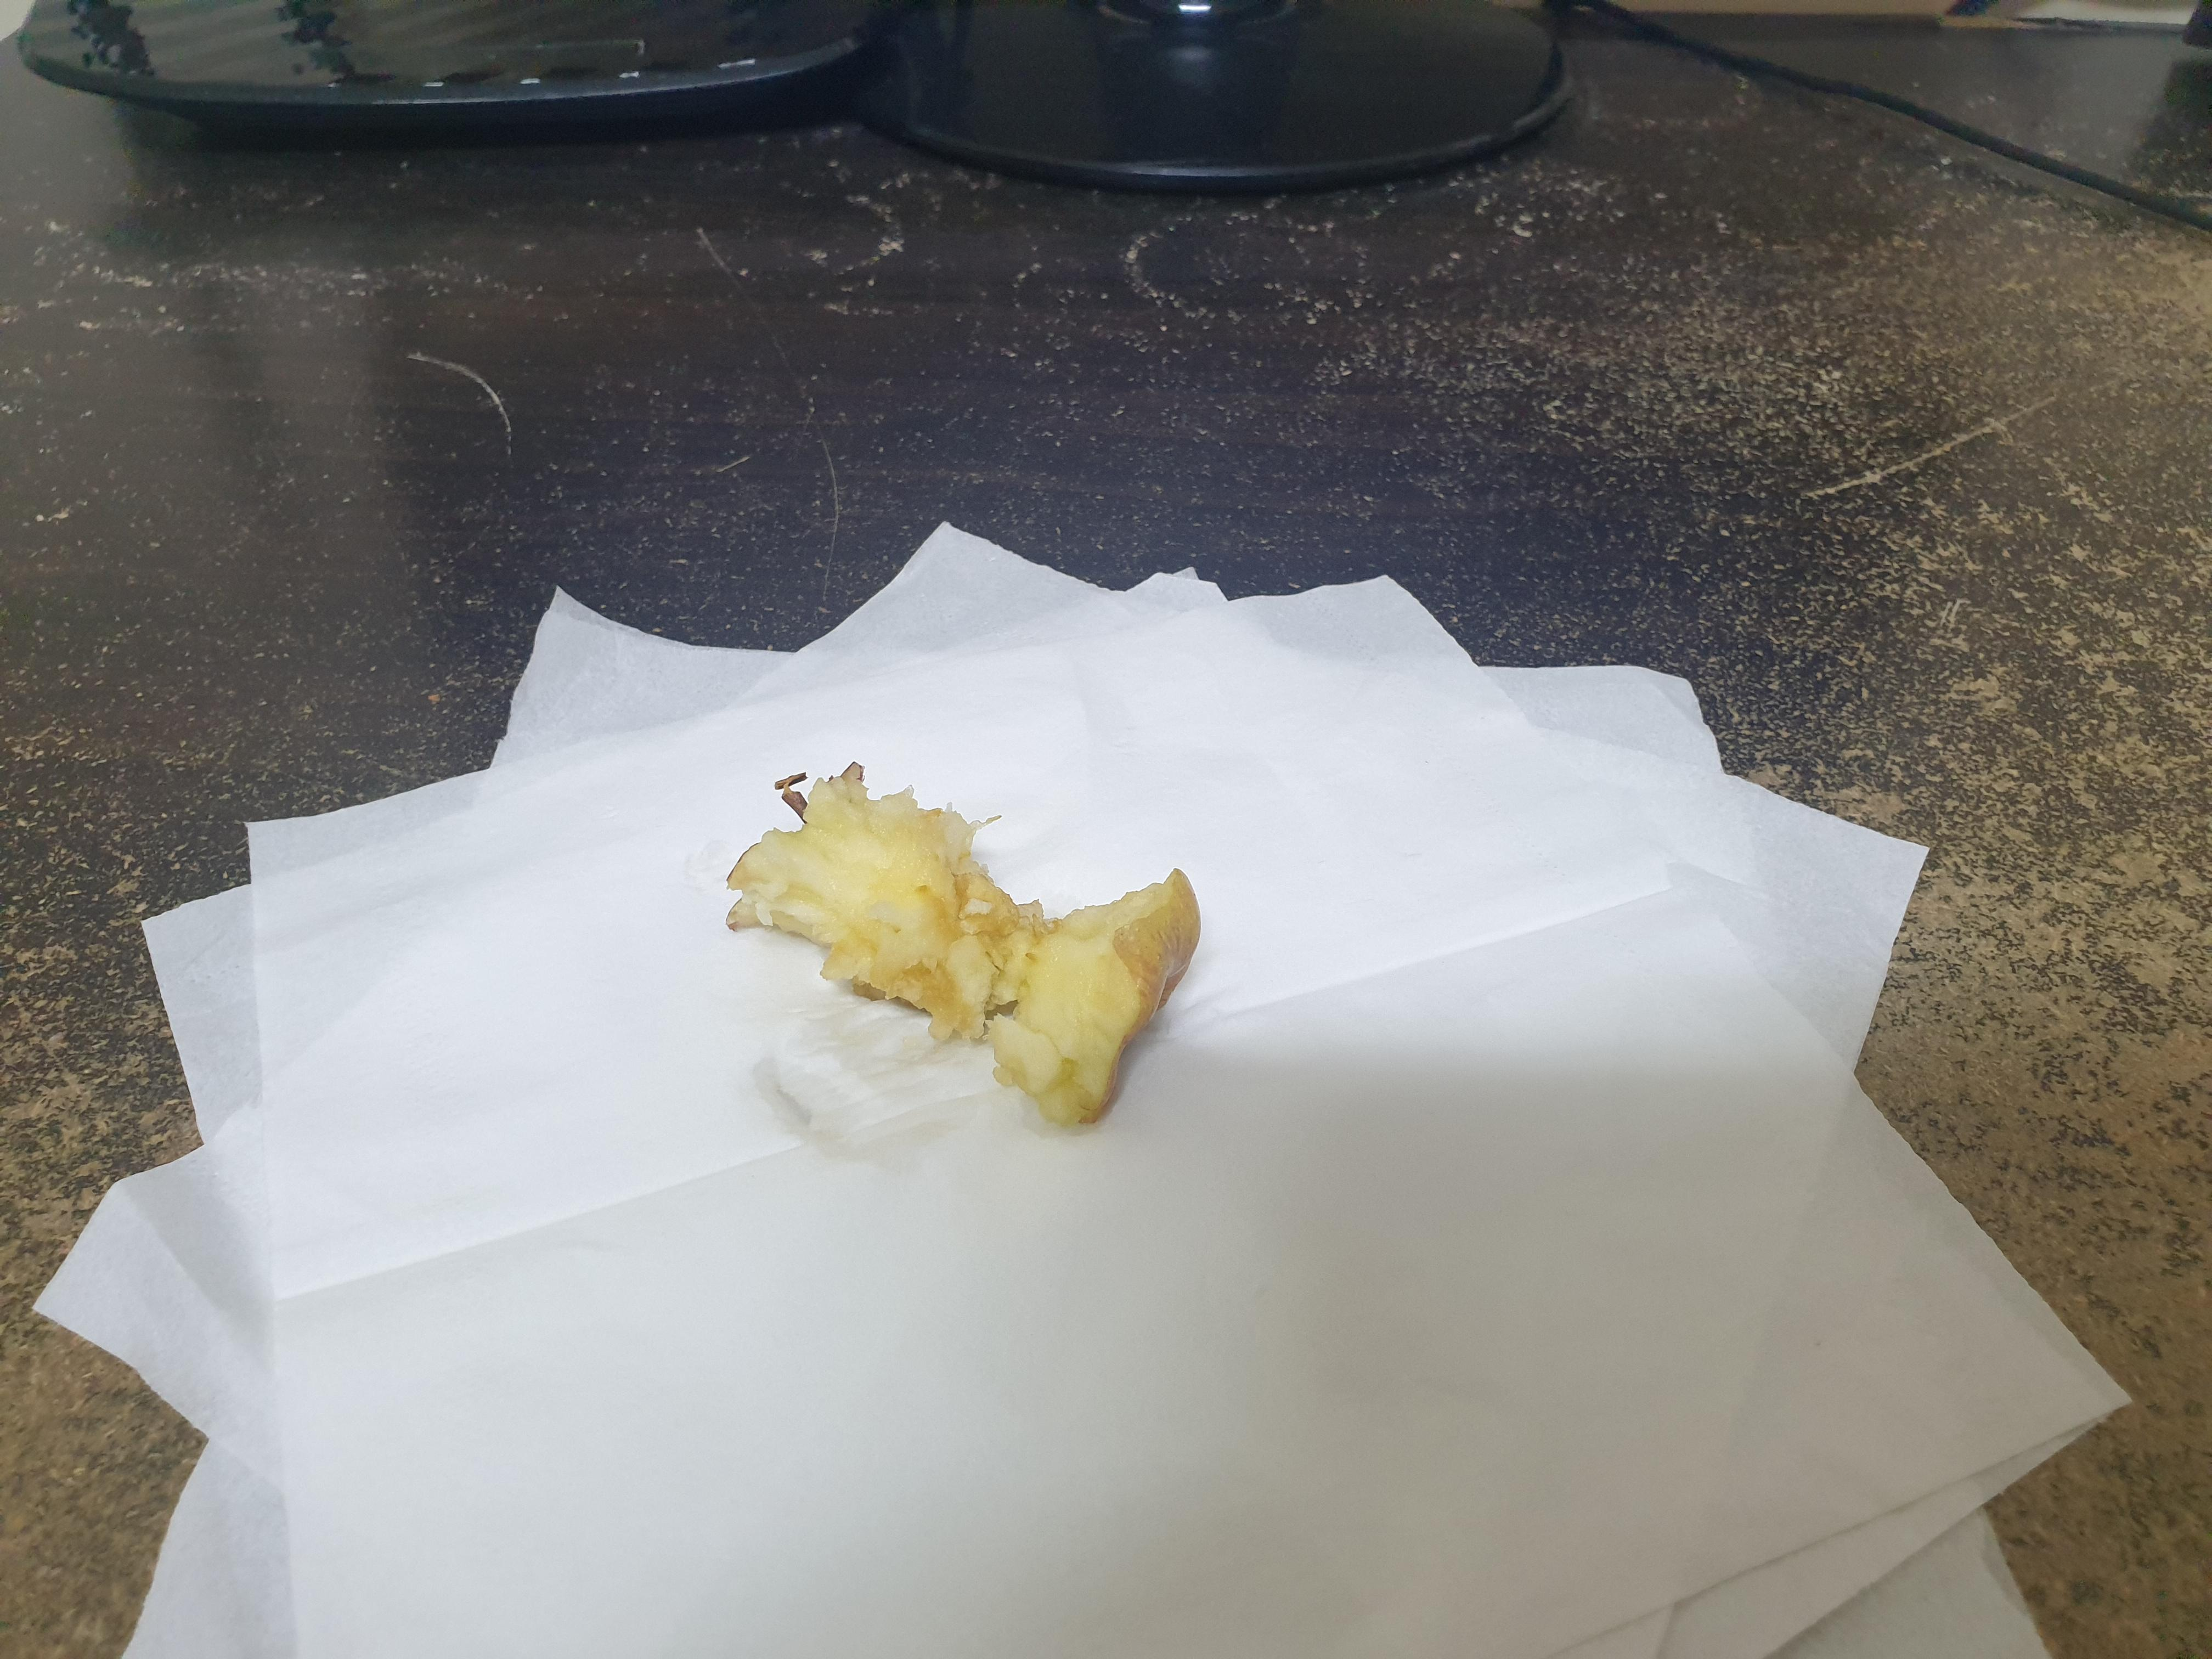Apple: (698, 746, 1219, 1145)
